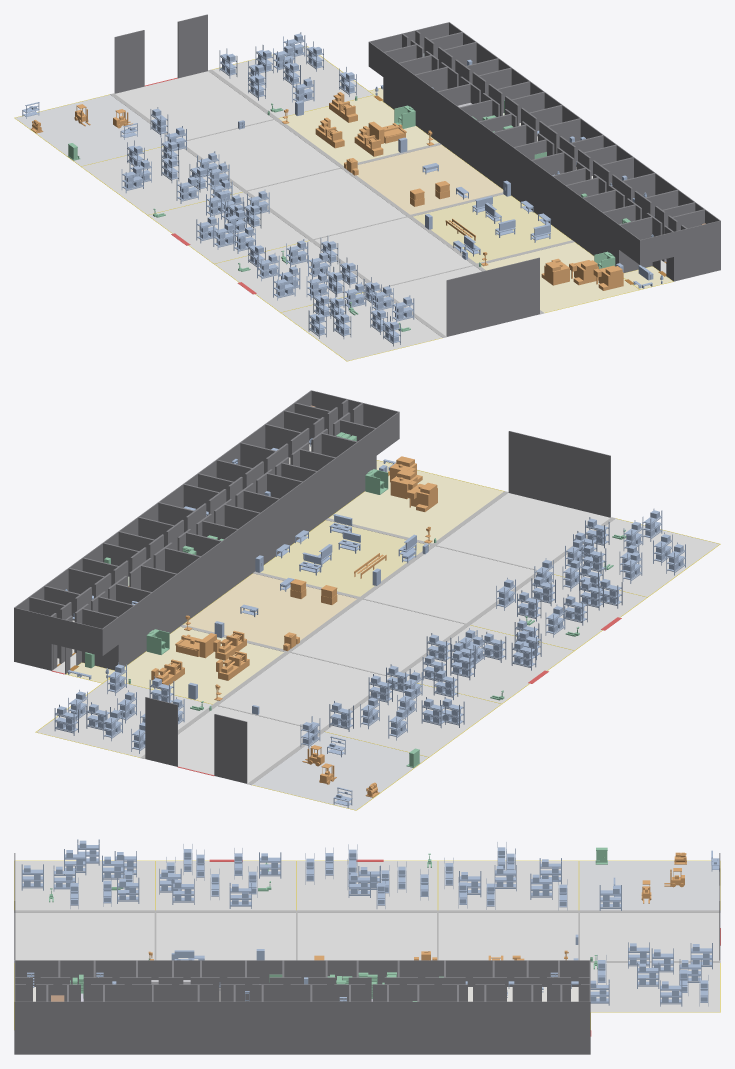
3 views of the same model, one above another, from view 1: azimuth 30°, elevation 25°; view 2: azimuth 150°, elevation 25°; view 3: azimuth 270°, elevation 25° (orthographic). The views are drawn at different scales.
Parts seen in each view (by area): view 1: proc-factory-dev-003-F0-S008, proc-factory-dev-003-F0-S007, proc-factory-dev-003-F0-S009, proc-factory-dev-003-F0-S010, walls:proc-factory-dev-003-F0-S006, proc-factory-dev-003-F0-S015, proc-factory-dev-003-F0-S003, proc-factory-dev-003-F0-S002, proc-factory-dev-003-F0-S011, proc-factory-dev-003-F0-S014, walls:proc-factory-dev-003-F1-S001, proc-factory-dev-003-F0-S005 (+40 smaller); view 2: proc-factory-dev-003-F0-S007, proc-factory-dev-003-F0-S008, proc-factory-dev-003-F0-S006, proc-factory-dev-003-F0-S009, proc-factory-dev-003-F0-S015, walls:proc-factory-dev-003-F0-S006, proc-factory-dev-003-F0-S003, proc-factory-dev-003-F0-S002, proc-factory-dev-003-F0-S001, proc-factory-dev-003-F0-S014, walls:proc-factory-dev-003-F1-S001, proc-factory-dev-003-F0-S010 (+38 smaller); view 3: proc-factory-dev-003-F0-S006, proc-factory-dev-003-F0-S009, proc-factory-dev-003-F0-S008, proc-factory-dev-003-F0-S007, proc-factory-dev-003-F0-S015, proc-factory-dev-003-F0-S010, walls:proc-factory-dev-003-F1-S001, proc-factory-dev-003-F0-S013, proc-factory-dev-003-F0-S012, proc-factory-dev-003-F0-S014, proc-factory-dev-003-F0-S011, proc-factory-dev-003-F0-S005 (+76 smaller).
Part boxes in pixels (x1,y1,x2,y2): proc-factory-dev-003-F0-S008: (248,168,406,238); proc-factory-dev-003-F0-S007: (315,217,472,287); proc-factory-dev-003-F0-S009: (184,119,339,190); proc-factory-dev-003-F0-S010: (115,71,273,139); walls:proc-factory-dev-003-F0-S006: (446,257,539,336); proc-factory-dev-003-F0-S015: (15,95,167,166); proc-factory-dev-003-F0-S003: (356,144,503,214); proc-factory-dev-003-F0-S002: (413,194,571,263); proc-factory-dev-003-F0-S011: (281,290,441,360); proc-factory-dev-003-F0-S014: (82,146,242,214); walls:proc-factory-dev-003-F1-S001: (402,30,687,256); proc-factory-dev-003-F0-S005: (212,46,372,117); proc-factory-dev-003-F0-S007: (364,546,535,623); proc-factory-dev-003-F0-S008: (291,599,464,676); proc-factory-dev-003-F0-S006: (437,493,610,569); proc-factory-dev-003-F0-S009: (218,652,390,729); proc-factory-dev-003-F0-S015: (252,732,428,810); walls:proc-factory-dev-003-F0-S006: (508,431,610,517); proc-factory-dev-003-F0-S003: (183,573,356,648); proc-factory-dev-003-F0-S002: (260,520,429,596); proc-factory-dev-003-F0-S001: (329,470,503,543); proc-factory-dev-003-F0-S014: (325,684,500,756); walls:proc-factory-dev-003-F1-S001: (51,399,362,647); proc-factory-dev-003-F0-S010: (178,706,307,783); proc-factory-dev-003-F0-S006: (15,912,154,960); proc-factory-dev-003-F0-S009: (438,912,578,960); proc-factory-dev-003-F0-S008: (297,912,436,960); proc-factory-dev-003-F0-S007: (156,912,295,960); proc-factory-dev-003-F0-S015: (579,861,719,910); proc-factory-dev-003-F0-S010: (580,912,719,960); walls:proc-factory-dev-003-F1-S001: (14,977,590,1001); proc-factory-dev-003-F0-S013: (297,861,437,910); proc-factory-dev-003-F0-S012: (156,861,296,910); proc-factory-dev-003-F0-S014: (438,861,578,910); proc-factory-dev-003-F0-S011: (15,861,155,910); proc-factory-dev-003-F0-S005: (590,963,719,1012).
Bounding box in the file's own units: 55.8 × 8 × 85.65.
